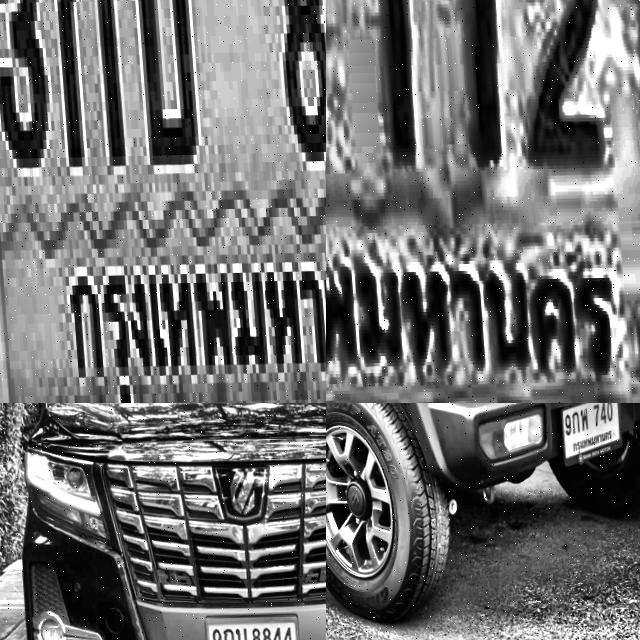license-plate: (0, 0, 326, 403), (326, 0, 640, 403), (544, 403, 617, 474), (196, 613, 293, 640)
